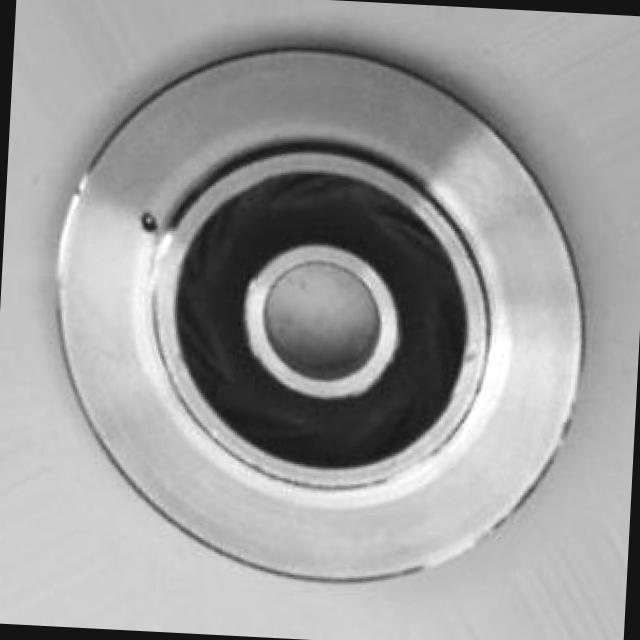Defect: (140, 200, 174, 242)
